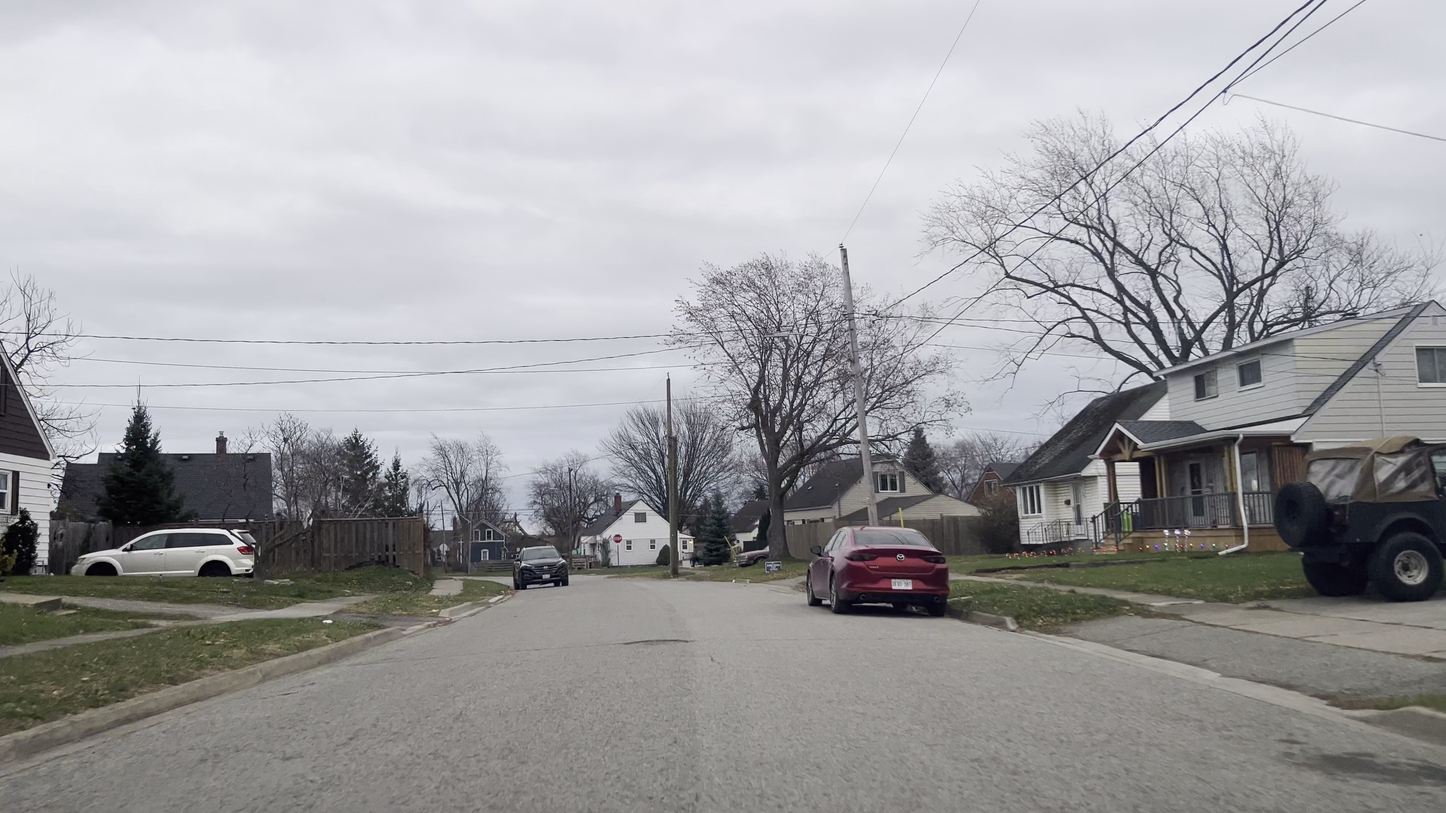cracks: (1278, 731, 1443, 799)
